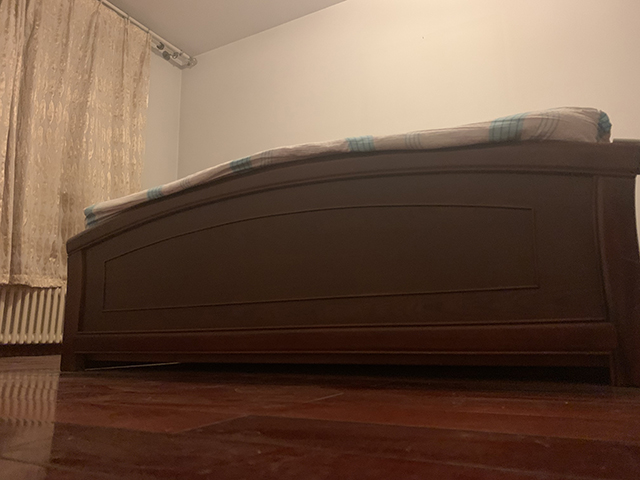bed: (59, 105, 640, 390)
curtain: (1, 2, 76, 296)
